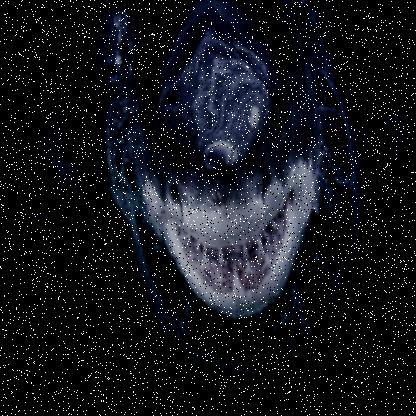white-shark: (116, 0, 344, 329)
